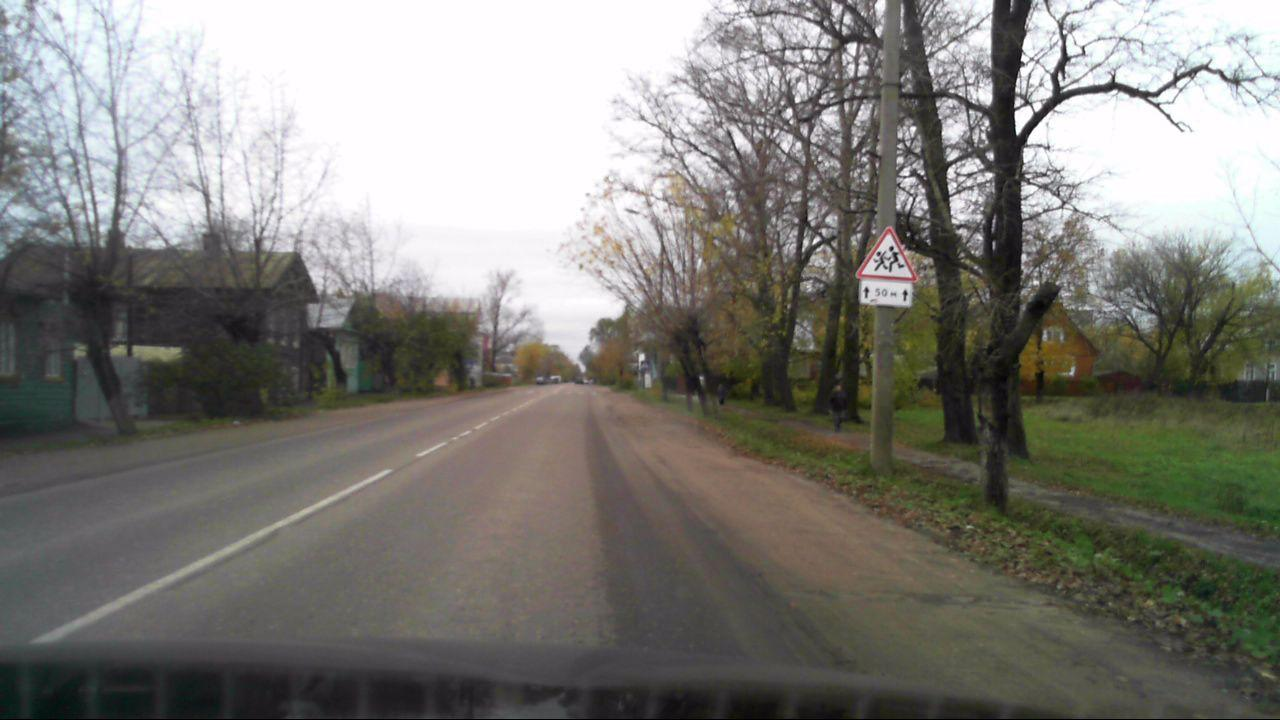road_sign: (849, 221, 924, 283), (859, 280, 917, 307)
